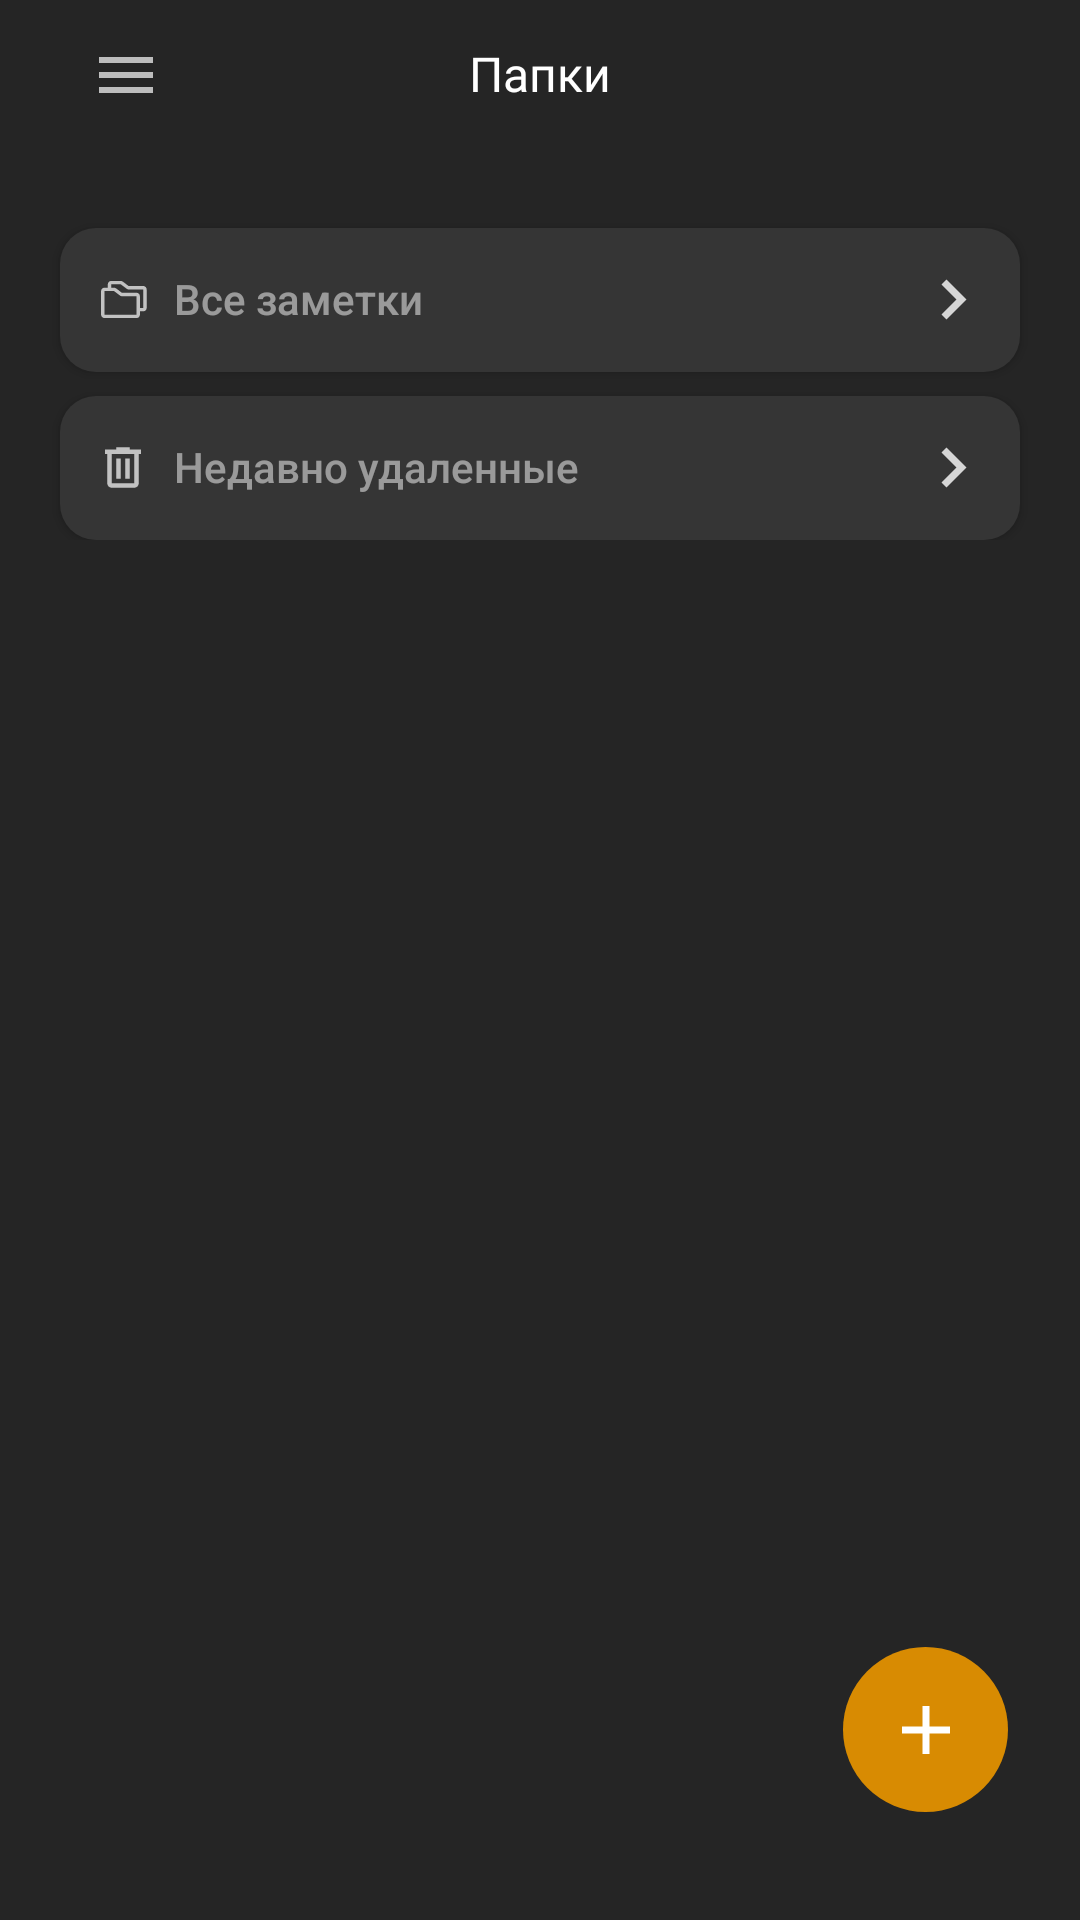

Icons on this 1080 × 1920 Android screen, each with its box as bbox=(x1, y1, x2, y2):
menu: bbox=(99, 57, 153, 93)
plus: bbox=(843, 1647, 1008, 1812)
